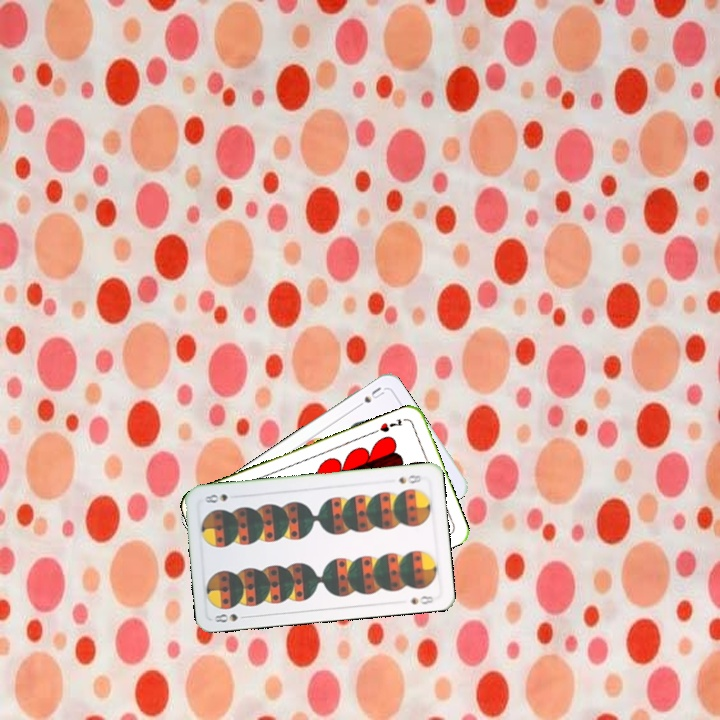H7: (376, 415, 405, 435)
S8: (210, 610, 251, 625), (395, 471, 426, 486)
SU: (351, 383, 387, 412)
